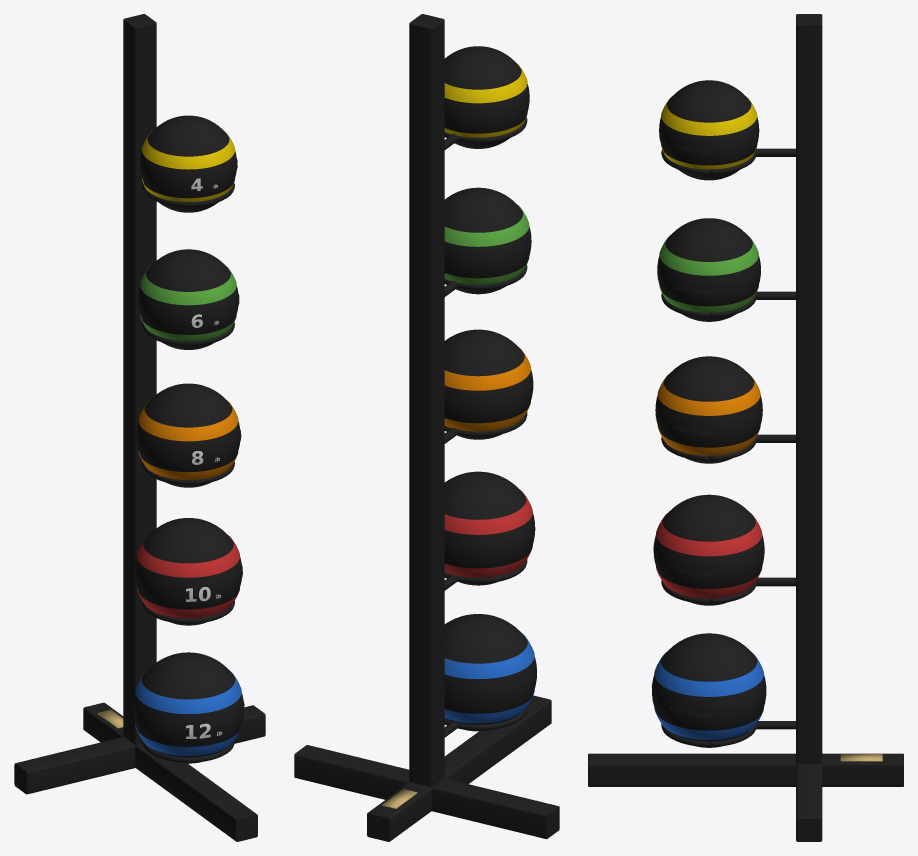
File: life-fitness-vertical-medicine-ball-storage_v001.glb
3 renders of one model, left to right at view 1: azimuth 30°, elevation 25°; view 2: azimuth 150°, elevation 25°; view 3: azimuth 270°, elevation 25°, orthographic. The views are drawn at different scales.
Visible parts, largest first — view 1: life-fitness-vertical-medicine-ball-storage_rubber, life-fitness-vertical-medicine-ball-storage_frame, life-fitness-vertical-medicine-ball-storage_frame.001, life-fitness-vertical-medicine-ball-storage_stripe12, life-fitness-vertical-medicine-ball-storage_stripe10, life-fitness-vertical-medicine-ball-storage_stripe8, life-fitness-vertical-medicine-ball-storage_stripe6, life-fitness-vertical-medicine-ball-storage_stripe4, life-fitness-vertical-medicine-ball-storage_white; view 2: life-fitness-vertical-medicine-ball-storage_frame, life-fitness-vertical-medicine-ball-storage_rubber, life-fitness-vertical-medicine-ball-storage_stripe12, life-fitness-vertical-medicine-ball-storage_frame.001, life-fitness-vertical-medicine-ball-storage_stripe10, life-fitness-vertical-medicine-ball-storage_stripe8, life-fitness-vertical-medicine-ball-storage_stripe6, life-fitness-vertical-medicine-ball-storage_stripe4, life-fitness-vertical-medicine-ball-storage_frame.002; view 3: life-fitness-vertical-medicine-ball-storage_rubber, life-fitness-vertical-medicine-ball-storage_frame, life-fitness-vertical-medicine-ball-storage_frame.001, life-fitness-vertical-medicine-ball-storage_stripe12, life-fitness-vertical-medicine-ball-storage_stripe10, life-fitness-vertical-medicine-ball-storage_stripe8, life-fitness-vertical-medicine-ball-storage_stripe6, life-fitness-vertical-medicine-ball-storage_stripe4, life-fitness-vertical-medicine-ball-storage_frame.002, life-fitness-vertical-medicine-ball-storage_script.
Part boxes in pixels (x1=…): life-fitness-vertical-medicine-ball-storage_rubber: x1=133, y1=115, x2=243, y2=763; life-fitness-vertical-medicine-ball-storage_frame: x1=14, y1=14, x2=265, y2=841; life-fitness-vertical-medicine-ball-storage_frame.001: x1=142, y1=182, x2=234, y2=762; life-fitness-vertical-medicine-ball-storage_stripe12: x1=135, y1=670, x2=241, y2=755; life-fitness-vertical-medicine-ball-storage_stripe10: x1=137, y1=535, x2=239, y2=618; life-fitness-vertical-medicine-ball-storage_stripe8: x1=138, y1=400, x2=238, y2=479; life-fitness-vertical-medicine-ball-storage_stripe6: x1=140, y1=265, x2=236, y2=340; life-fitness-vertical-medicine-ball-storage_stripe4: x1=142, y1=131, x2=234, y2=201; life-fitness-vertical-medicine-ball-storage_white: x1=186, y1=178, x2=222, y2=738; life-fitness-vertical-medicine-ball-storage_frame: x1=294, y1=14, x2=559, y2=841; life-fitness-vertical-medicine-ball-storage_rubber: x1=444, y1=46, x2=536, y2=731; life-fitness-vertical-medicine-ball-storage_stripe12: x1=444, y1=633, x2=534, y2=723; life-fitness-vertical-medicine-ball-storage_frame.001: x1=444, y1=117, x2=527, y2=730; life-fitness-vertical-medicine-ball-storage_stripe10: x1=444, y1=490, x2=532, y2=577; life-fitness-vertical-medicine-ball-storage_stripe8: x1=444, y1=347, x2=530, y2=431; life-fitness-vertical-medicine-ball-storage_stripe6: x1=444, y1=204, x2=529, y2=284; life-fitness-vertical-medicine-ball-storage_stripe4: x1=444, y1=62, x2=527, y2=137; life-fitness-vertical-medicine-ball-storage_frame.002: x1=444, y1=134, x2=457, y2=737; life-fitness-vertical-medicine-ball-storage_rubber: x1=652, y1=80, x2=766, y2=747; life-fitness-vertical-medicine-ball-storage_frame: x1=588, y1=14, x2=903, y2=841; life-fitness-vertical-medicine-ball-storage_frame.001: x1=661, y1=149, x2=756, y2=746; life-fitness-vertical-medicine-ball-storage_stripe12: x1=654, y1=652, x2=763, y2=740; life-fitness-vertical-medicine-ball-storage_stripe10: x1=656, y1=512, x2=762, y2=598; life-fitness-vertical-medicine-ball-storage_stripe8: x1=657, y1=373, x2=760, y2=456; life-fitness-vertical-medicine-ball-storage_stripe6: x1=659, y1=234, x2=758, y2=313; life-fitness-vertical-medicine-ball-storage_stripe4: x1=661, y1=96, x2=757, y2=170; life-fitness-vertical-medicine-ball-storage_frame.002: x1=755, y1=148, x2=795, y2=729; life-fitness-vertical-medicine-ball-storage_script: x1=670, y1=144, x2=711, y2=717.
Size of the model in its own units: 0.54 by 1.6 by 0.6.
